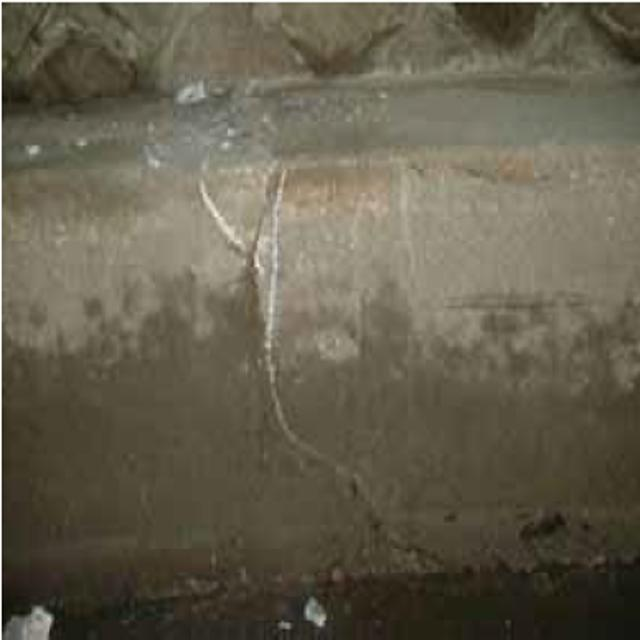crack: (233, 163, 364, 513)
